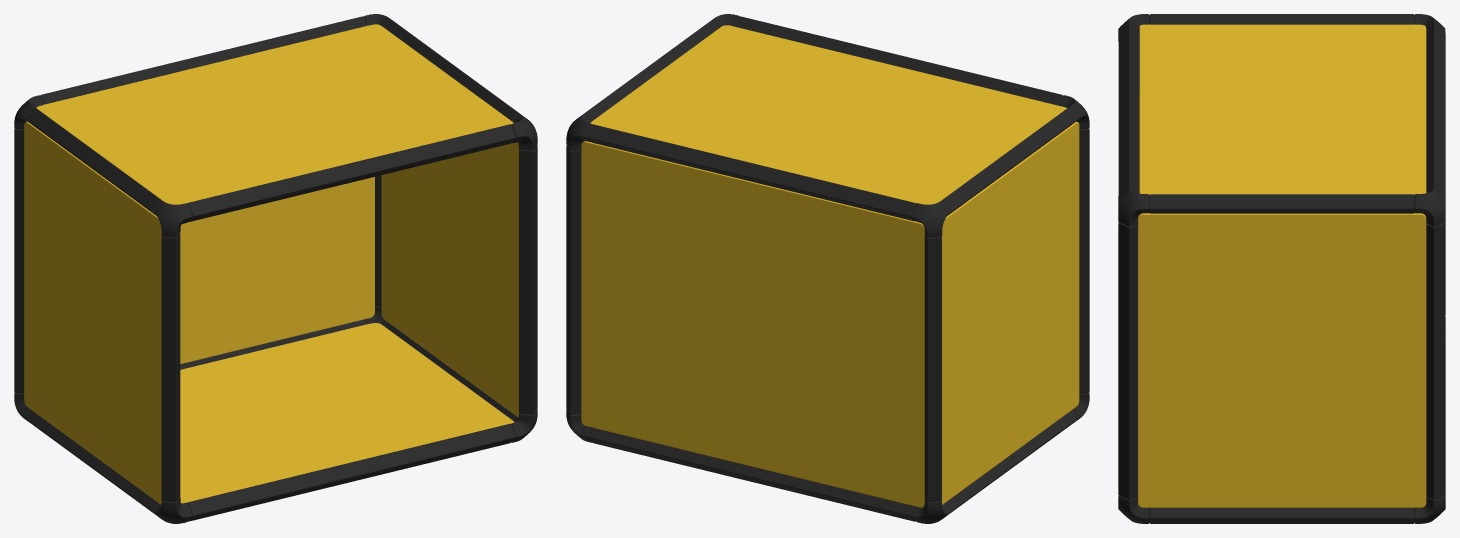
3 views of the same model, side by side, from view 1: azimuth 30°, elevation 25°; view 2: azimuth 150°, elevation 25°; view 3: azimuth 270°, elevation 25° (orthographic). The views are drawn at different scales.
Parts seen in each view (by area): view 1: 479x329x374; view 2: 479x329x374; view 3: 479x329x374.
Part boxes in pixels (x1,y1,x2,y2): 479x329x374: [14, 14, 537, 523]; 479x329x374: [566, 14, 1089, 523]; 479x329x374: [1118, 14, 1445, 523].
Size of the model in its own units: 0.5567 by 0.4516 by 0.4063.
